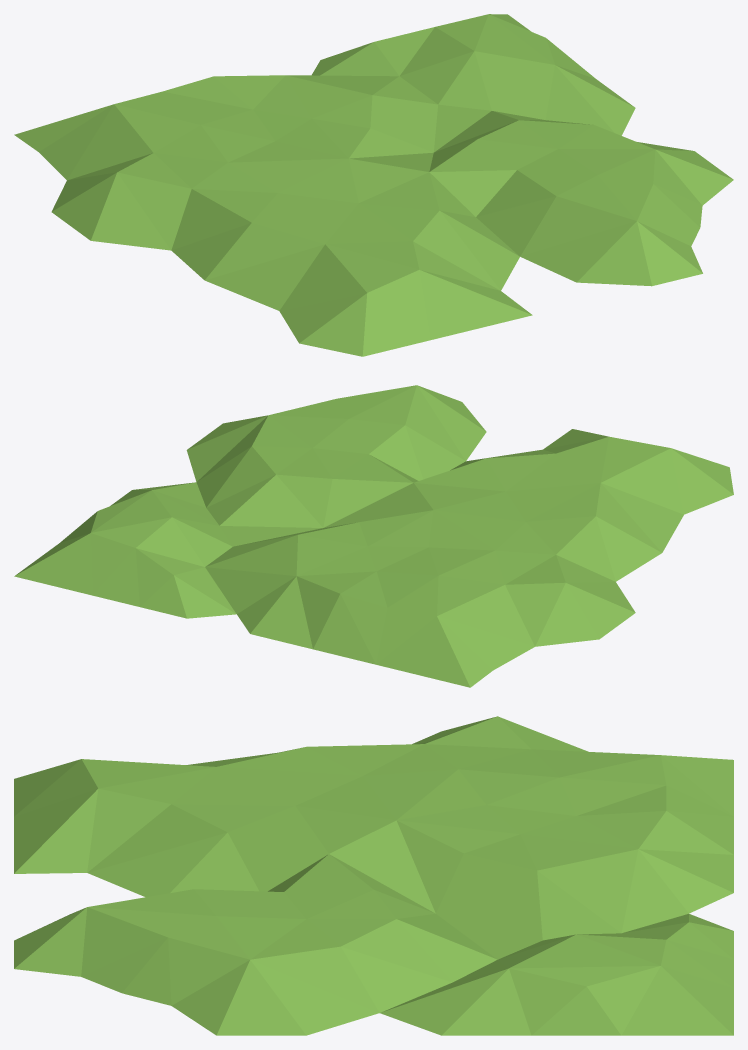
Rendered from MT_Mountain_S_b_26.fbx.
3 views of the same model, one above another, from view 1: azimuth 30°, elevation 25°; view 2: azimuth 150°, elevation 25°; view 3: azimuth 270°, elevation 25° (orthographic). The views are drawn at different scales.
Visible parts, largest first — view 1: MT_Mountain_S_b_26; view 2: MT_Mountain_S_b_26; view 3: MT_Mountain_S_b_26.
Part boxes in pixels (<box>): MT_Mountain_S_b_26: <box>14,14,733,356</box>; MT_Mountain_S_b_26: <box>14,385,733,687</box>; MT_Mountain_S_b_26: <box>14,716,733,1035</box>.
Bounding box in the file's own units: 2500 × 178 × 2500.
